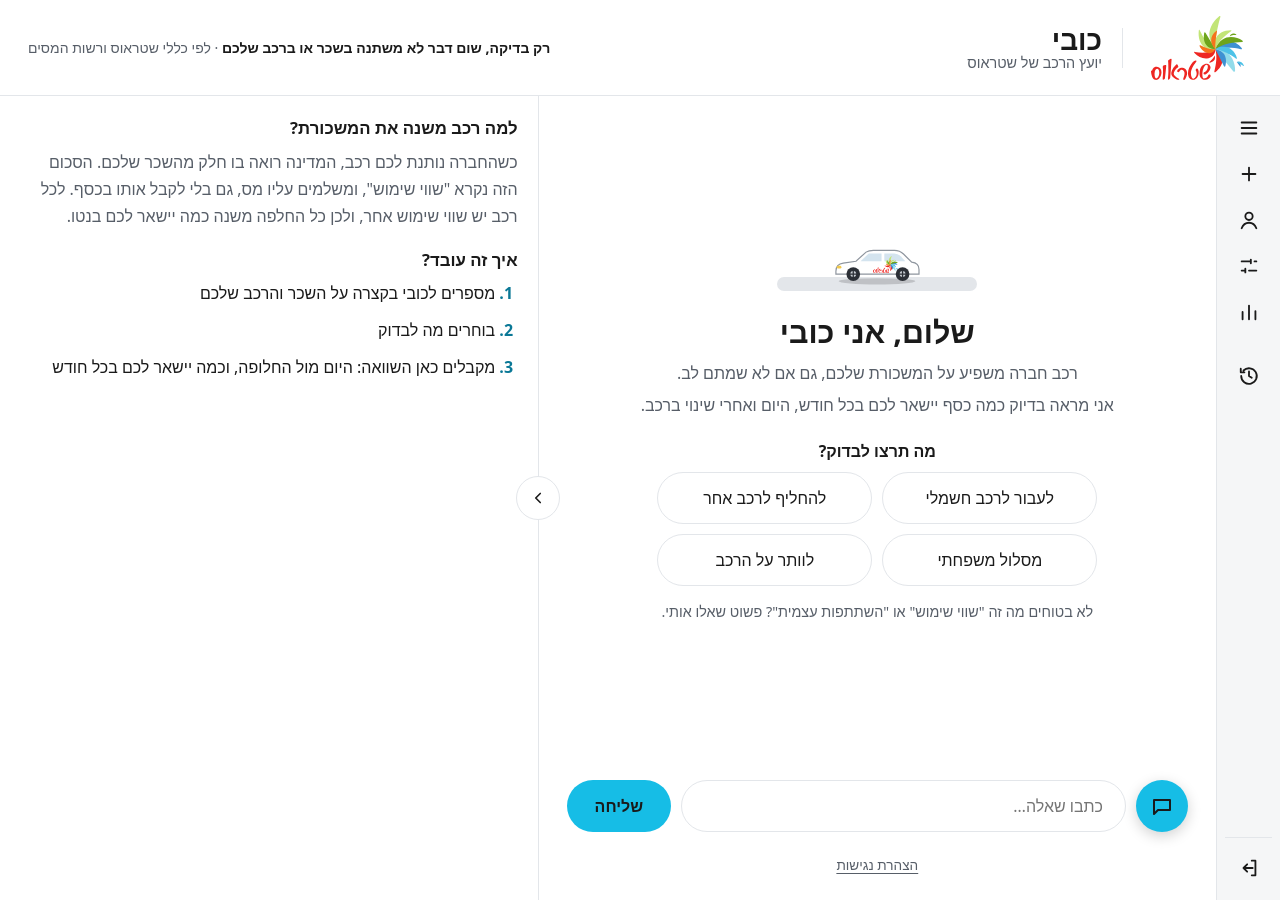
Test: EmployeeScreen › shows a calm message when the server is overloaded
Type "שלום" into the text box named "הודעה" at (904, 806), box [681,780,1126,832]
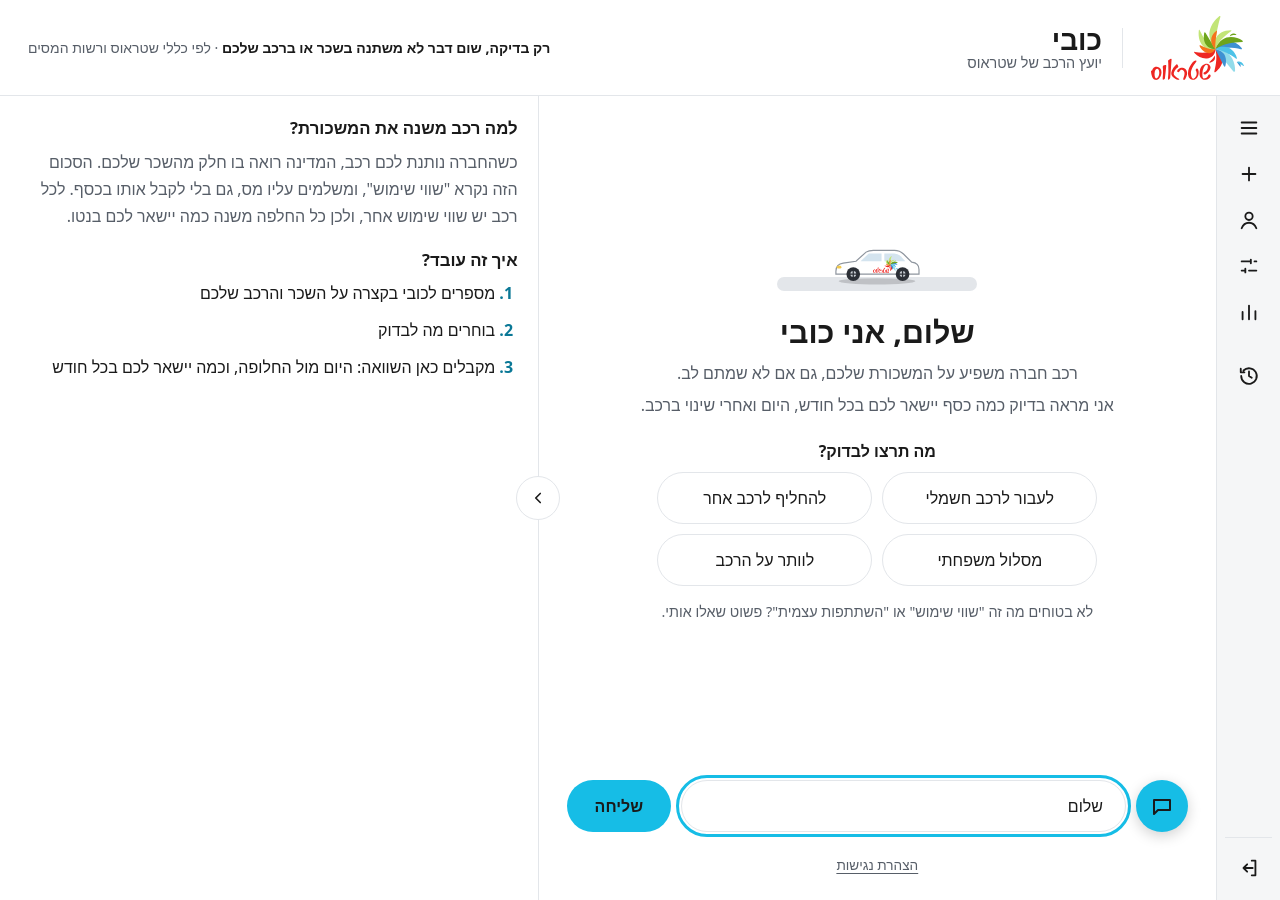
Click the button "שליחה" at (619, 806), box [567,780,671,832]
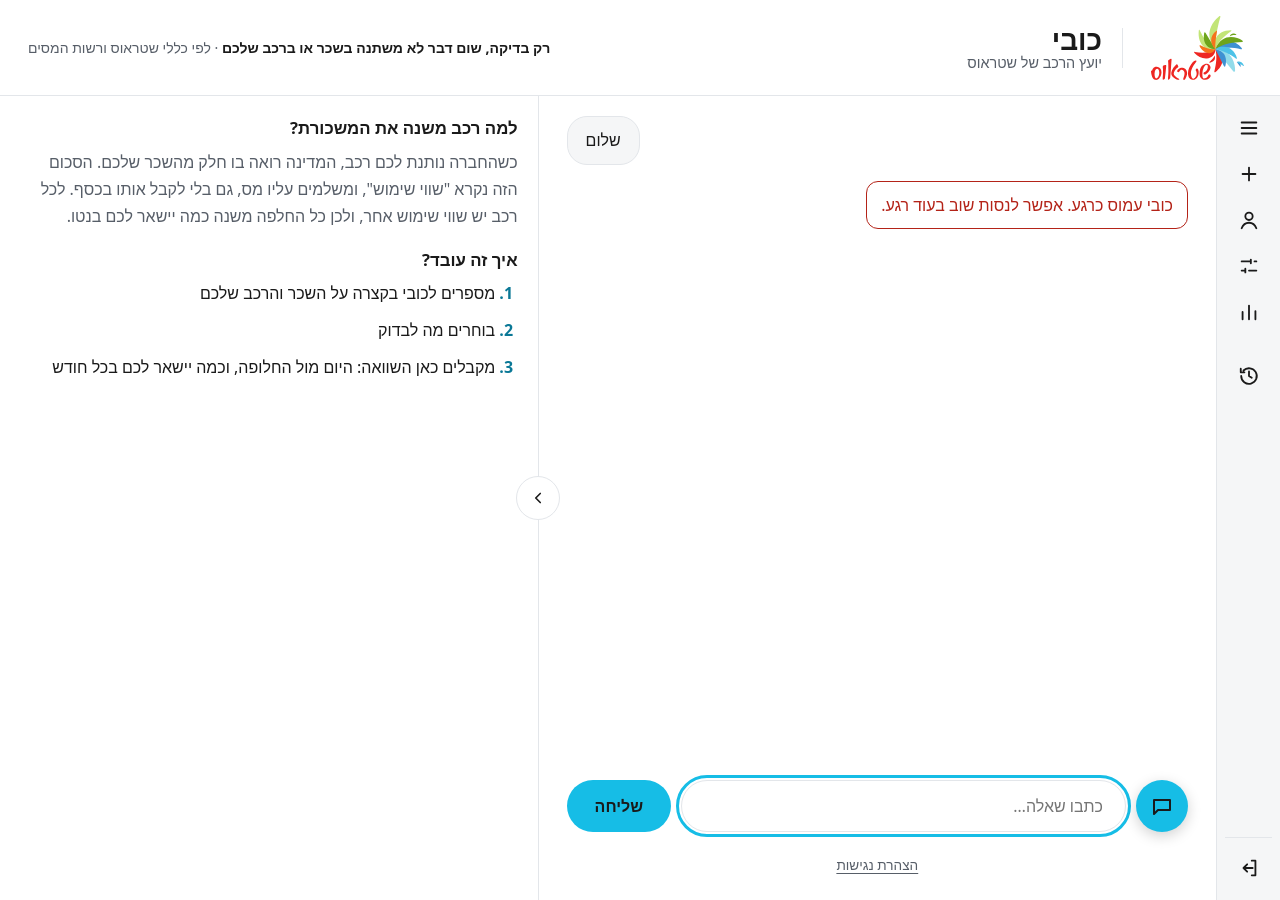
Result: the list item "כובי עמוס כרגע. אפשר לנסות שוב בעוד רגע." is shown at [866,181,1188,229]
